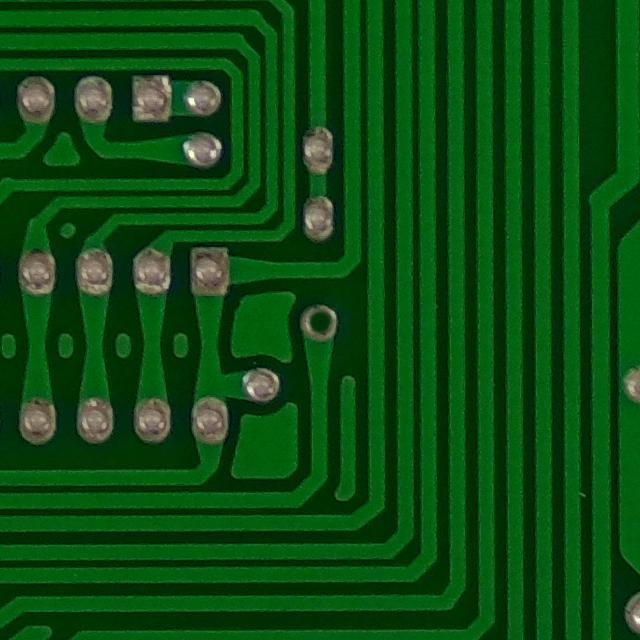missing_hole: (295, 294, 346, 347)
